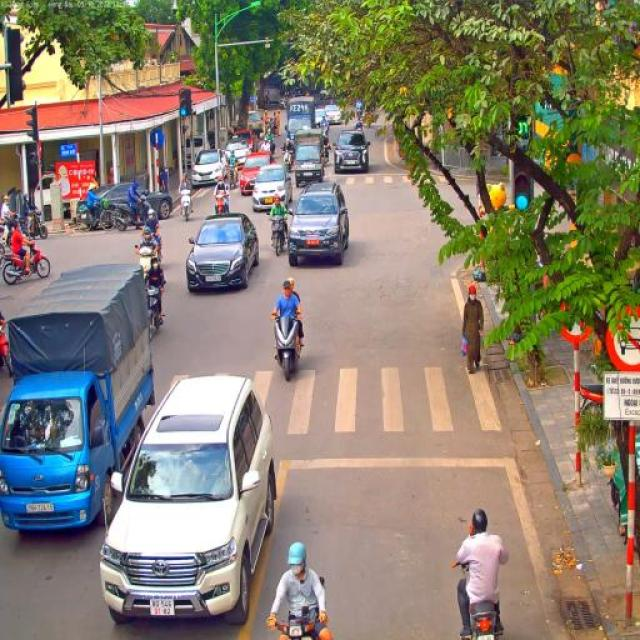car: (99, 372, 278, 626), (186, 212, 260, 293), (286, 182, 350, 266), (92, 182, 173, 222), (251, 162, 294, 212), (333, 128, 372, 174), (189, 148, 227, 190), (240, 152, 270, 196), (225, 136, 253, 164), (234, 128, 258, 152), (324, 104, 341, 124), (315, 107, 327, 128)
motorcycle: (451, 559, 504, 640), (0, 240, 51, 286), (268, 601, 328, 640), (270, 314, 302, 381), (111, 193, 147, 232), (9, 210, 49, 244), (134, 242, 160, 286), (146, 285, 166, 341), (266, 213, 292, 256), (0, 211, 18, 245), (1, 331, 13, 378), (178, 188, 192, 222), (152, 230, 164, 265), (212, 190, 228, 214), (228, 161, 240, 191), (281, 151, 294, 173), (321, 141, 332, 165), (320, 121, 330, 139), (362, 112, 374, 126), (266, 120, 275, 134), (269, 150, 276, 165), (360, 120, 366, 136), (356, 110, 363, 120)
truck: (0, 260, 156, 536), (293, 128, 325, 188), (284, 96, 316, 154), (247, 110, 264, 140)
